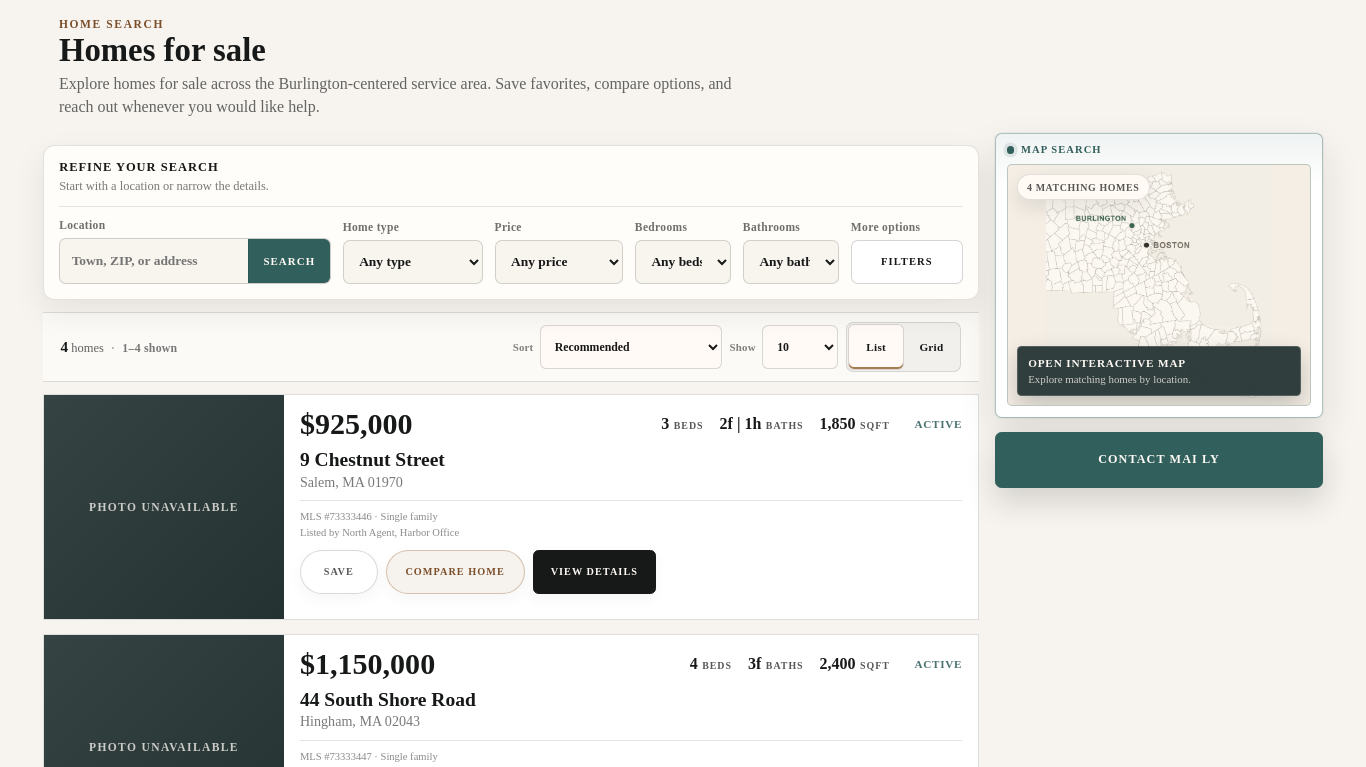
Test: PropertiesSearch › uses only preferred-shard geography in the filter sheet
The width and height of the screenshot is (1366, 767).
Click the button with aria-label "more filters".
click(907, 262)  # box [851,240,963,284]
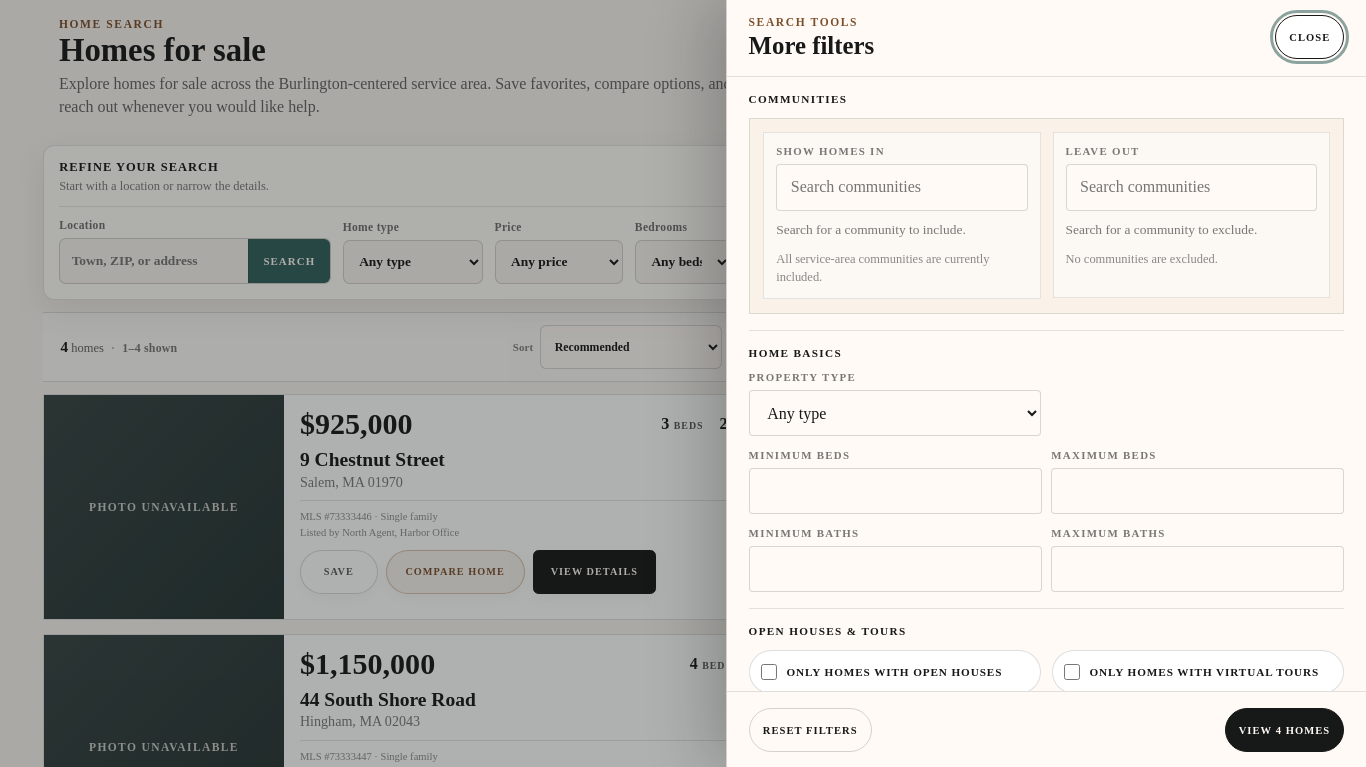
Type "Nantucket" into the dropdown named "search communities to include".
click(902, 187); type("Nantucket")  # box [776,164,1028,210]
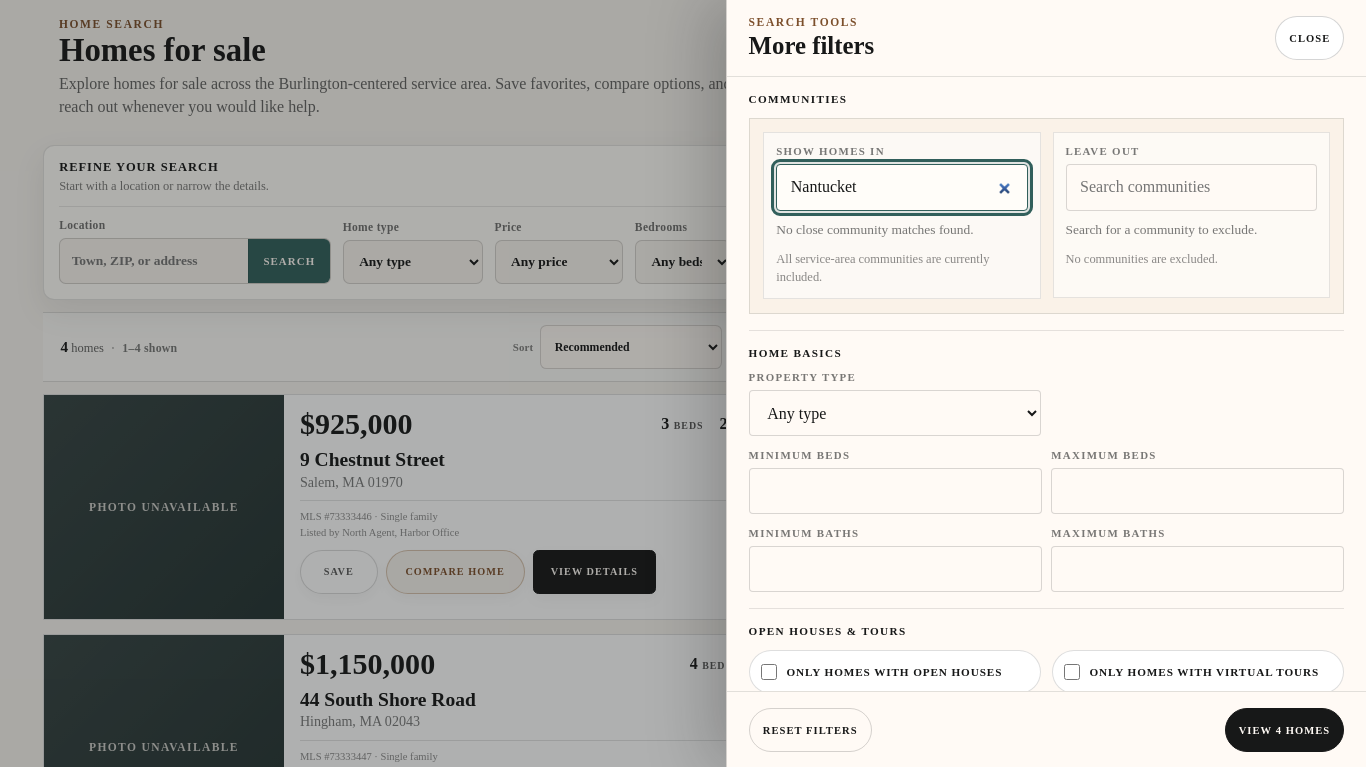
Now the text "No close community matches found." is shown, box [776,222,974,237]
